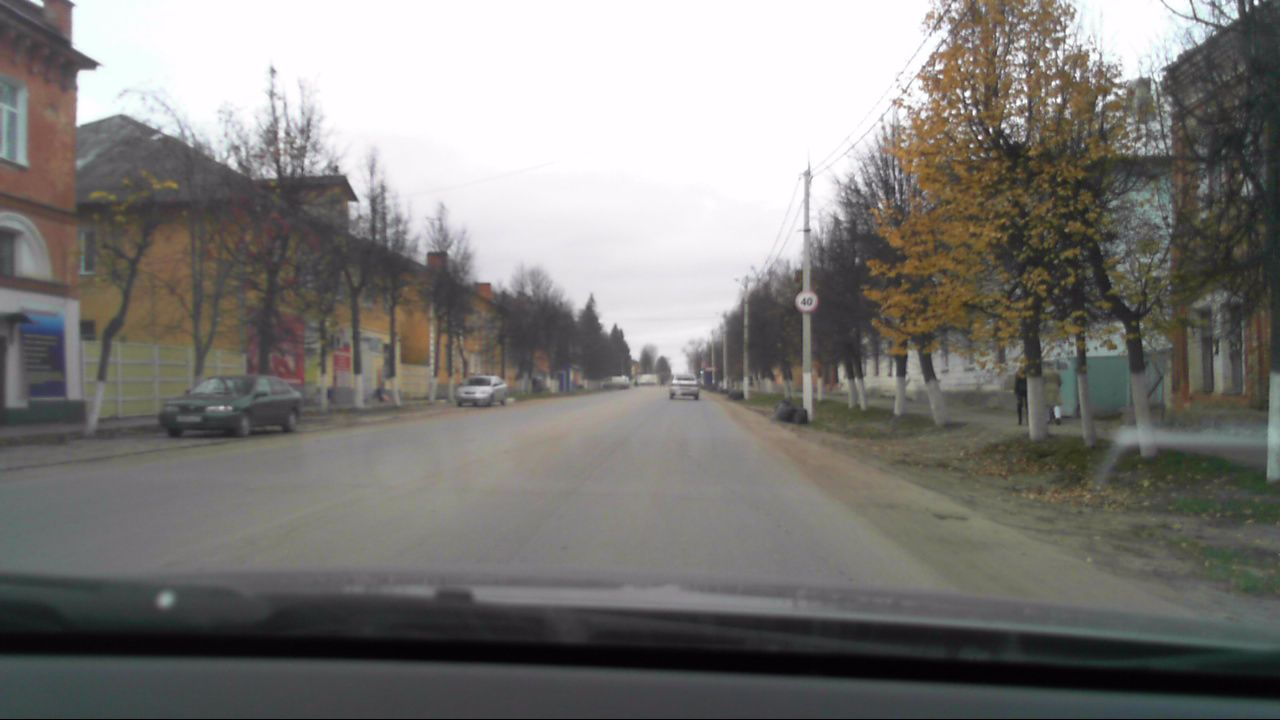speed_warning_40: (795, 290, 817, 312)
